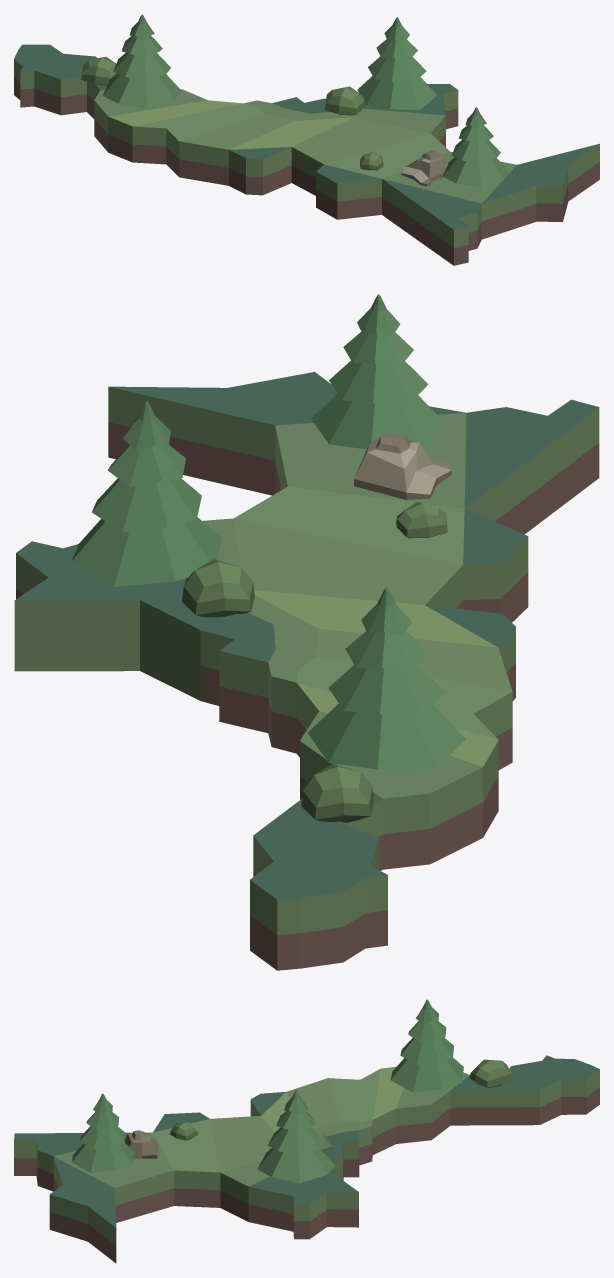
File: viluisk.gltf
3 views of the same model, one above another, from view 1: azimuth 30°, elevation 25°; view 2: azimuth 150°, elevation 25°; view 3: azimuth 270°, elevation 25° (orthographic). The views are drawn at different scales.
Parts seen in each view (by area): view 1: вилюйск; view 2: вилюйск; view 3: вилюйск.
Part boxes in pixels (x1,y1,x2,y2): вилюйск: (14, 14, 599, 265); вилюйск: (14, 294, 599, 970); вилюйск: (14, 999, 599, 1263).
Bounding box in the file's own units: 1.64 × 0.5325 × 2.34.
